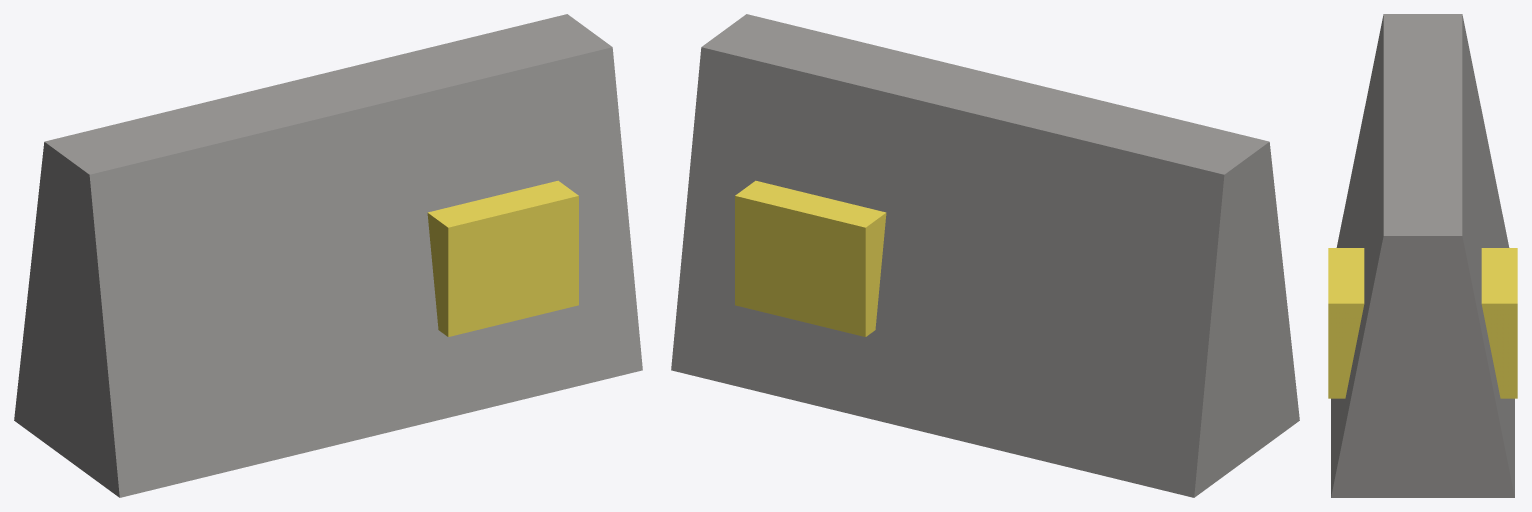
File: barrier.glb
3 renders of one model, left to right at view 1: azimuth 30°, elevation 25°; view 2: azimuth 150°, elevation 25°; view 3: azimuth 270°, elevation 25°, orthographic. The views are drawn at different scales.
Visible parts, largest first — view 1: barrier; view 2: barrier; view 3: barrier.
Boxes of the visible parts, x1,y1,x2,y2 form: barrier: (14,14,642,497); barrier: (671,14,1299,497); barrier: (1328,14,1517,497).
Size of what is drawn, in the model's own units: 2 by 1.1 by 0.72.
